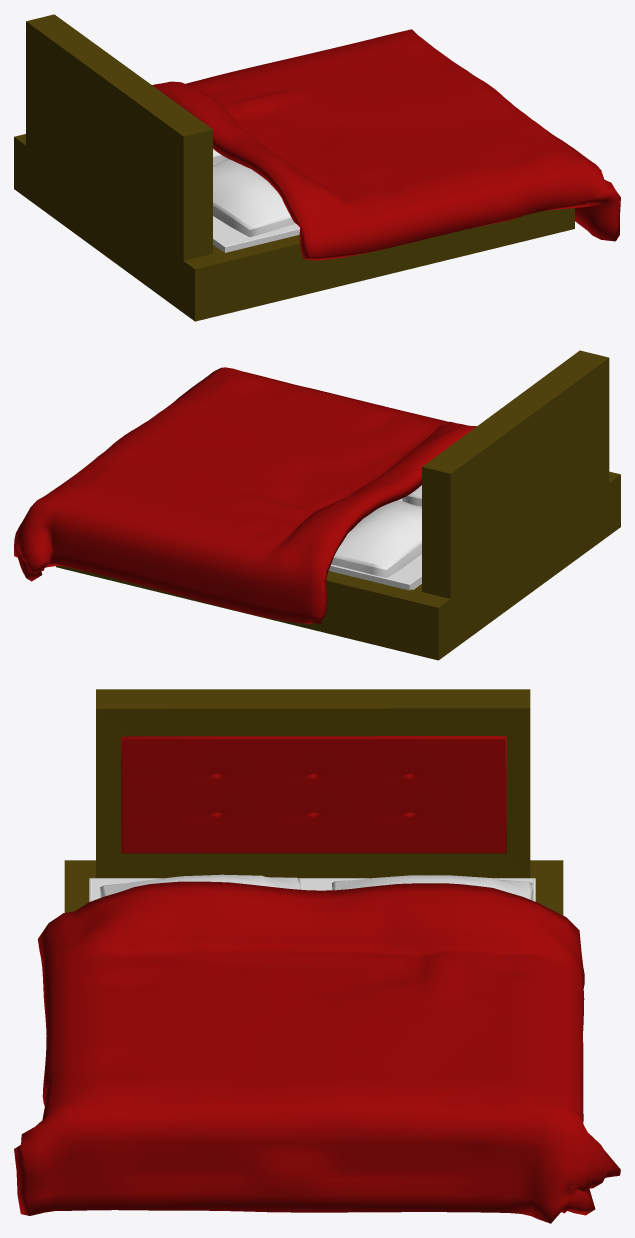
File: bed.fbx
3 renders of one model, top to bottom at view 1: azimuth 30°, elevation 25°; view 2: azimuth 150°, elevation 25°; view 3: azimuth 270°, elevation 25°, orthographic. The views are drawn at different scales.
Visible parts, largest first — view 1: pCube7; view 2: pCube7; view 3: pCube7.
Boxes of the visible parts, bbox=[...] form: pCube7: bbox=[14, 14, 620, 321]; pCube7: bbox=[14, 350, 620, 660]; pCube7: bbox=[14, 689, 620, 1223].
Size of the model in its own units: 13.65 by 5.78 by 12.23.
